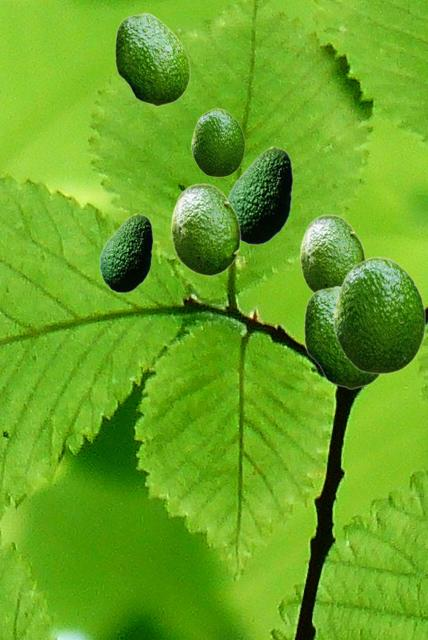avocado: (333, 256, 425, 373), (303, 285, 381, 388), (114, 12, 189, 105), (170, 183, 240, 275), (227, 146, 292, 244), (299, 214, 365, 292), (99, 213, 152, 292), (191, 108, 244, 176)
